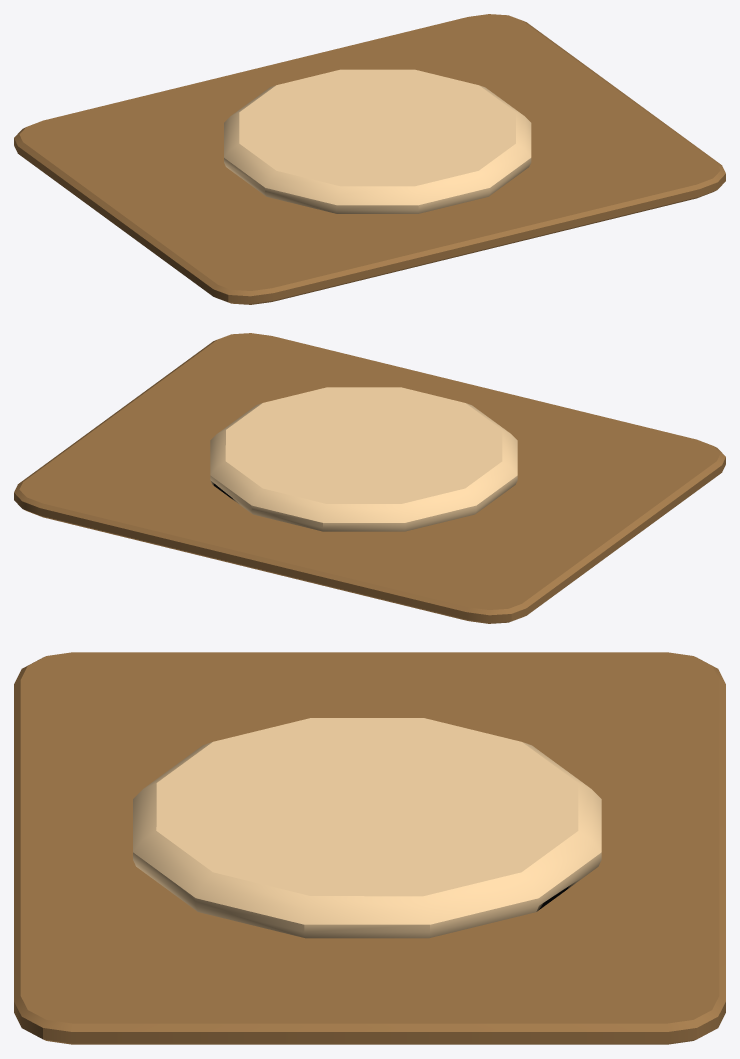
Rendered from dough on a cutting board.fbx.
3 views of the same model, one above another, from view 1: azimuth 30°, elevation 25°; view 2: azimuth 150°, elevation 25°; view 3: azimuth 270°, elevation 25° (orthographic). The views are drawn at different scales.
Visible parts, largest first — view 1: large cutting board; view 2: large cutting board; view 3: large cutting board.
Boxes of the visible parts, bbox=[...] form: large cutting board: bbox=[14, 14, 725, 304]; large cutting board: bbox=[14, 333, 725, 623]; large cutting board: bbox=[14, 652, 725, 1044].
Bounding box in the file's own units: 63.82 × 4.48 × 50.73.
